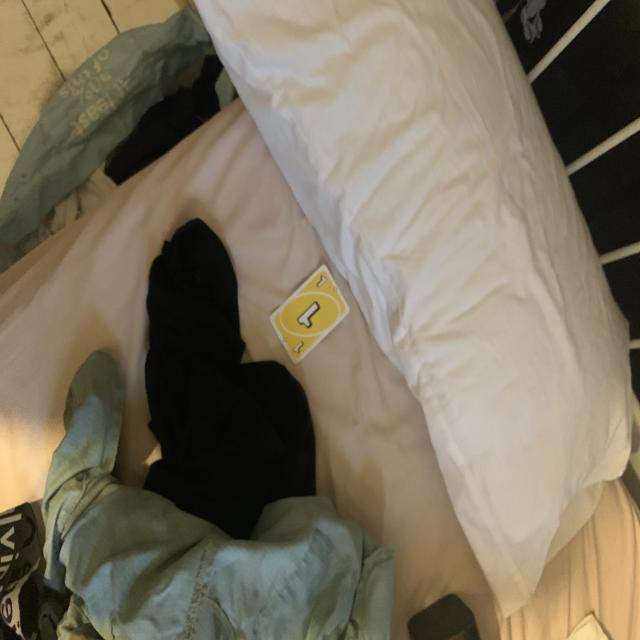lyellow-1: (314, 272, 329, 291)
